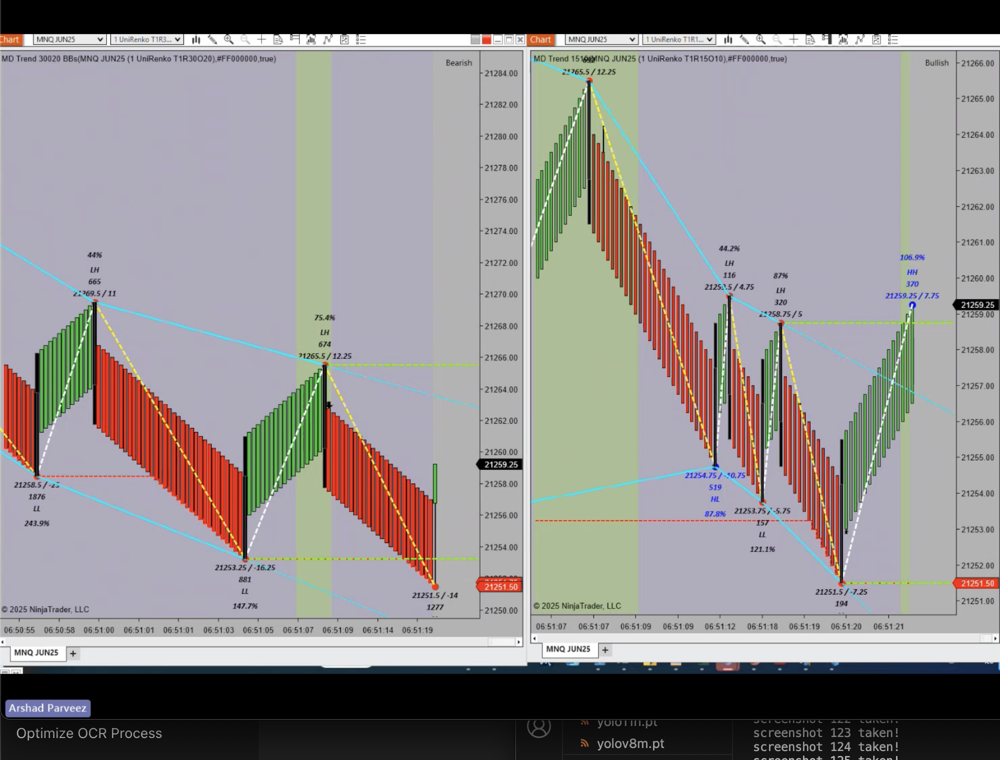HH: (901, 265, 924, 278)
HL: (706, 489, 727, 506)
LH: (770, 280, 795, 298), (84, 262, 109, 278), (315, 324, 340, 340), (717, 256, 742, 271)
LL: (233, 582, 260, 604), (753, 523, 776, 546), (24, 503, 53, 520)
